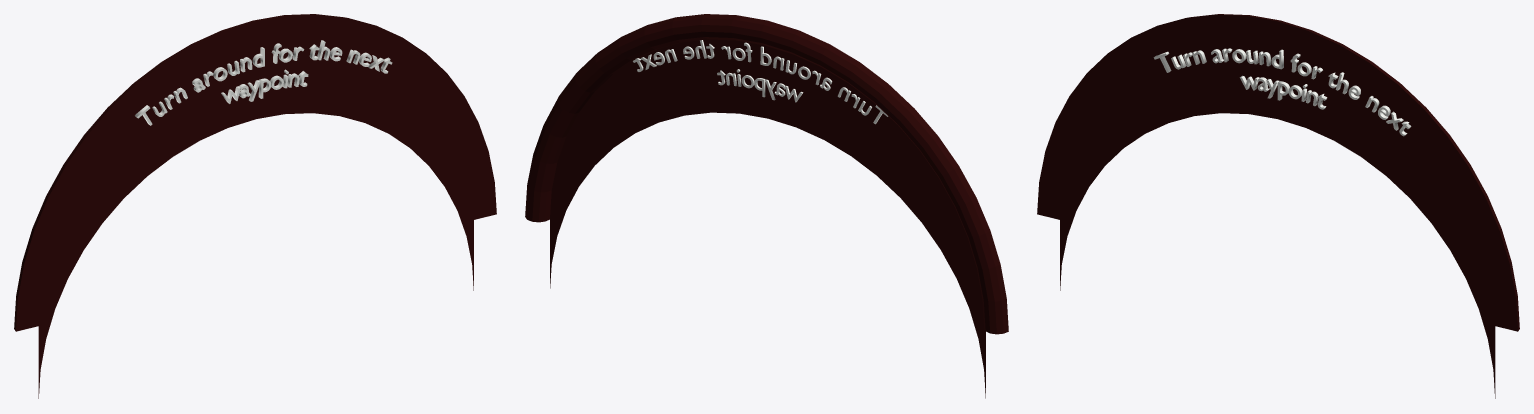
Rendered from arc_turnaround.obj.
3 views of the same model, side by side, from view 1: azimuth 30°, elevation 25°; view 2: azimuth 150°, elevation 25°; view 3: azimuth 330°, elevation 25° (orthographic).
Parts seen in each view (by area): view 1: arc_turnaround; view 2: arc_turnaround; view 3: arc_turnaround.
Boxes of the visible parts, x1=… form: arc_turnaround: x1=14, y1=14, x2=496, y2=398; arc_turnaround: x1=525, y1=14, x2=1008, y2=398; arc_turnaround: x1=1037, y1=14, x2=1519, y2=398.
Bounding box in the file's own units: 75.66 × 48.93 × 2.45.
